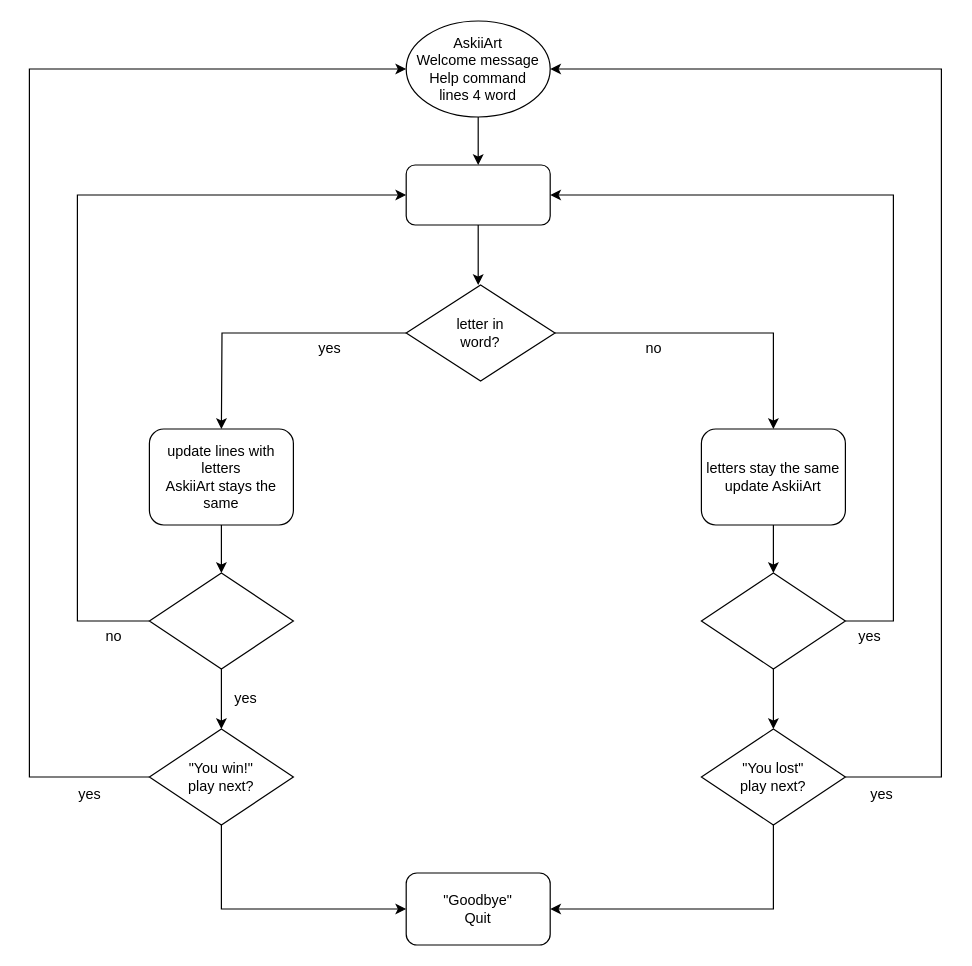
Image size: 972x966. Some labels were removed from this diagram. The shapes that lost their labels are listed below. From the top down, each one's centre as x and y in pixels, then its label:
At (477,194): "ask for letter input".
At (220,620): "word full?".
At (772,620): "got tries left?".
